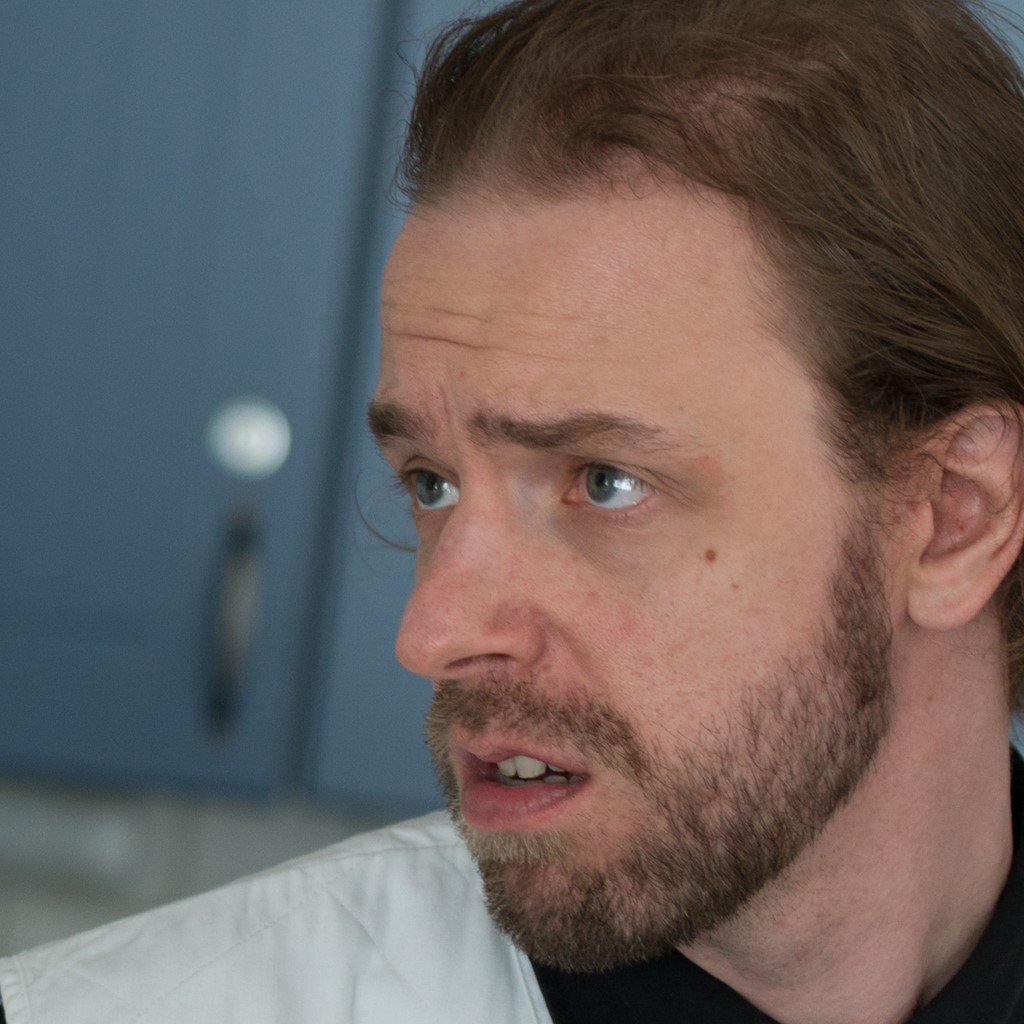sin_mascara: (379, 77, 902, 922)
